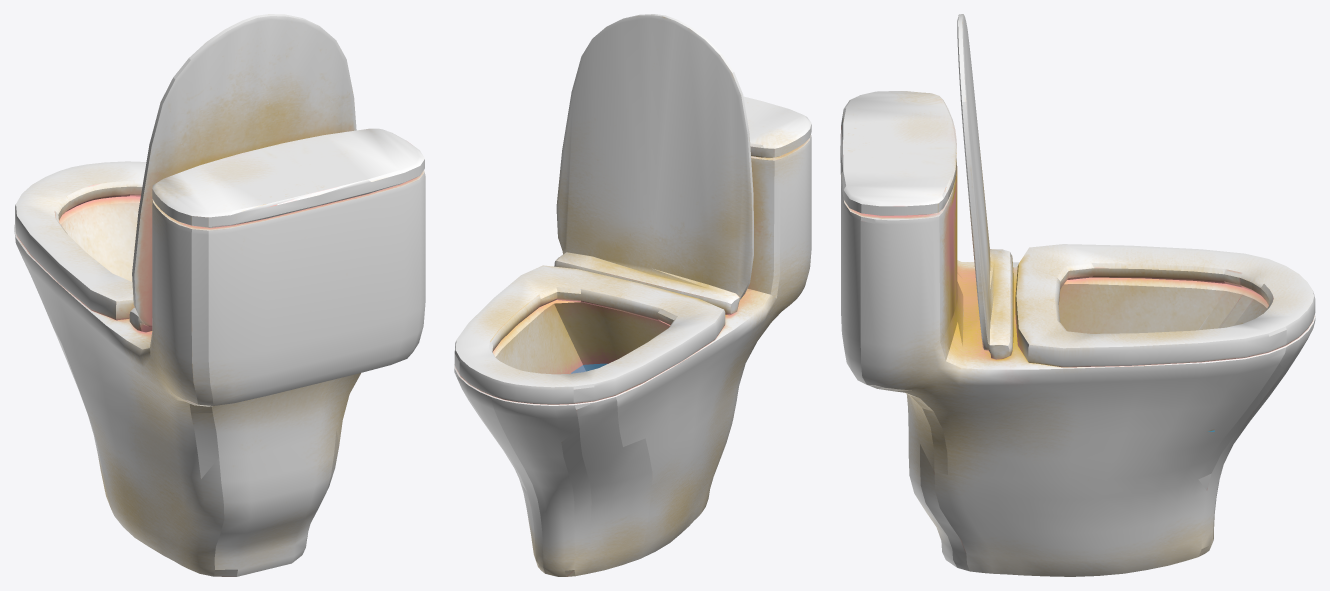
File: Toilet.glb
3 views of the same model, side by side, from view 1: azimuth 30°, elevation 25°; view 2: azimuth 150°, elevation 25°; view 3: azimuth 270°, elevation 25° (orthographic). The views are drawn at different scales.
Parts seen in each view (by area): view 1: Int_Apt_01_Wall_01__14_1.004; view 2: Int_Apt_01_Wall_01__14_1.004; view 3: Int_Apt_01_Wall_01__14_1.004.
Boxes of the visible parts, x1,y1,x2,y2 form: Int_Apt_01_Wall_01__14_1.004: (14,14,425,576); Int_Apt_01_Wall_01__14_1.004: (454,14,811,576); Int_Apt_01_Wall_01__14_1.004: (840,14,1315,576).
Bounding box in the file's own units: 0.6892 × 1.45 × 1.19.
2 materials, 1 textured.
